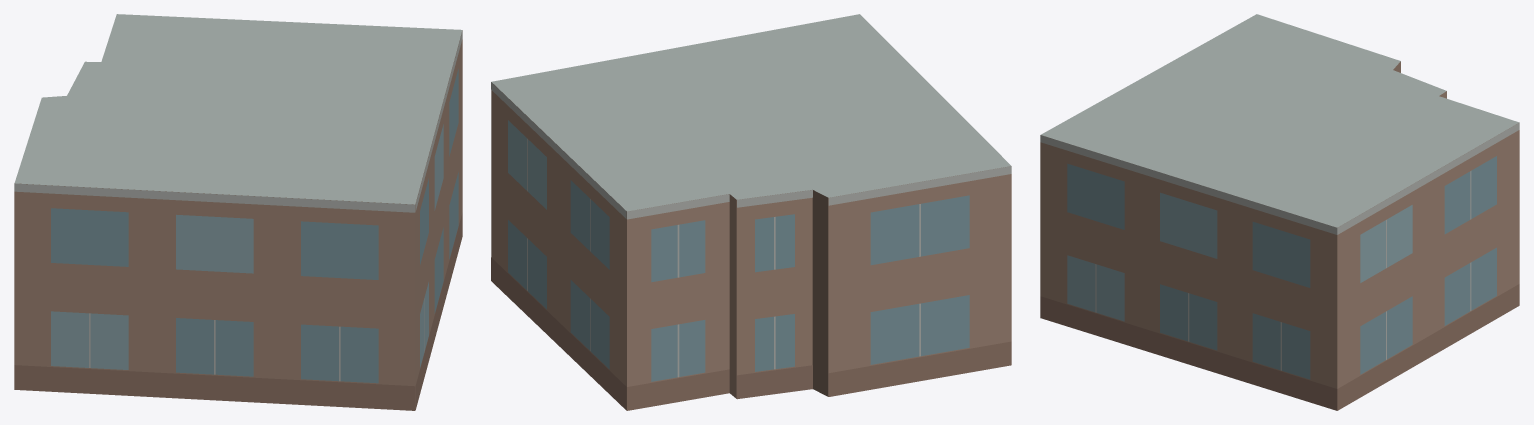
The model's file is survey-upis-32959959.glb.
3 views of the same model, side by side, from view 1: azimuth 30°, elevation 25°; view 2: azimuth 150°, elevation 25°; view 3: azimuth 270°, elevation 25° (orthographic). The views are drawn at different scales.
Parts seen in each view (by area): view 1: survey-upis-32959959.tmp; view 2: survey-upis-32959959.tmp; view 3: survey-upis-32959959.tmp.
Part boxes in pixels (<box>): survey-upis-32959959.tmp: <box>14,14,462,410</box>; survey-upis-32959959.tmp: <box>491,14,1011,410</box>; survey-upis-32959959.tmp: <box>1040,14,1519,410</box>.
Bounding box in the file's own units: 15.28 × 6.1 × 14.47.
